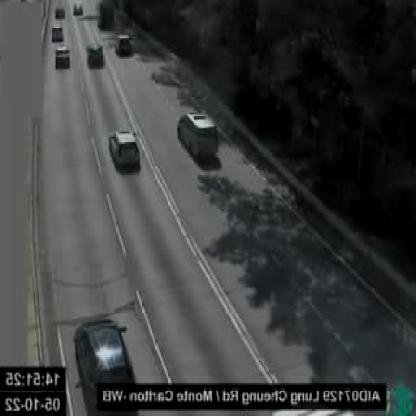Car: (73, 315, 138, 411), (178, 111, 218, 163), (110, 126, 140, 170), (87, 42, 108, 69), (117, 30, 134, 57), (54, 45, 72, 68), (53, 22, 65, 40), (73, 2, 84, 16), (56, 5, 65, 21)
